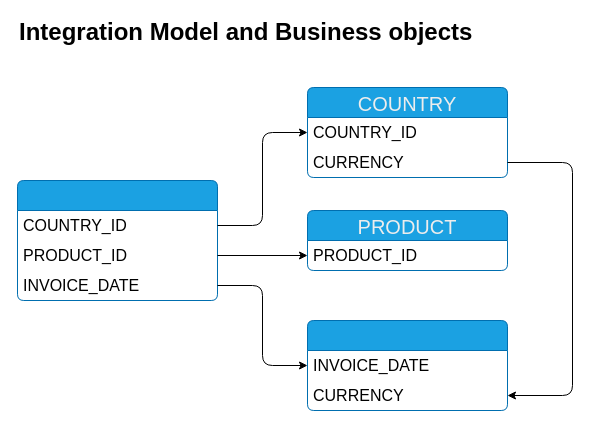
This 598x428 diagram has some shape labels left out. The shapes that lost their labels are listed below. From the top down, each one's box as (x1, y1, x2, y2) in pixels, then its label:
(16, 180, 218, 300): FACT_SALES
(306, 320, 508, 410): EXCHANGE_RATE
